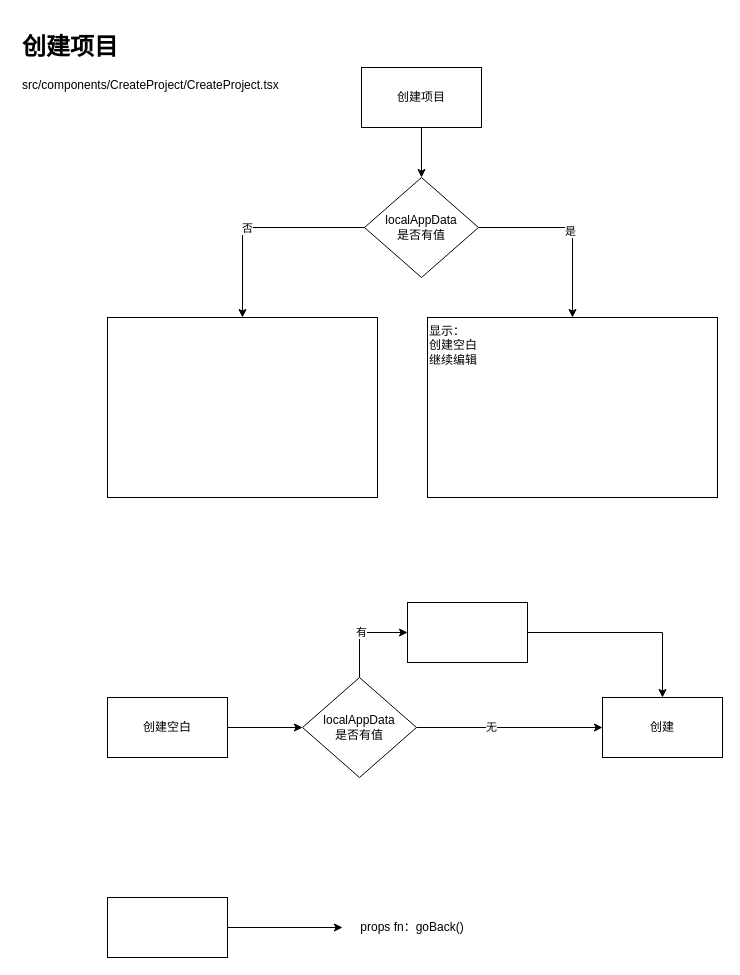
This 740x975 diagram has some shape labels left out. The shapes that lost their labels are listed below. From the top down, each one's centre as x and y in pixels, then its label:
pixel 242 407: 显示： 创建空白
pixel 467 632: 弹窗确认覆盖 正在编辑
pixel 167 927: 继续编辑
